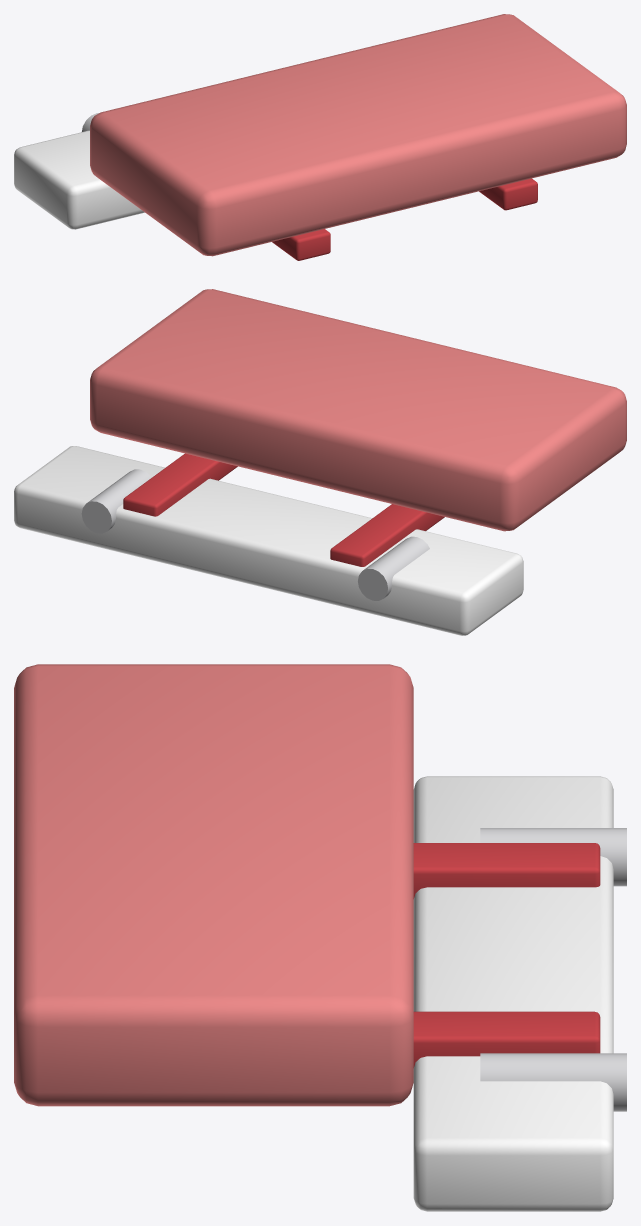
3 views of the same model, one above another, from view 1: azimuth 30°, elevation 25°; view 2: azimuth 150°, elevation 25°; view 3: azimuth 270°, elevation 25° (orthographic). The views are drawn at different scales.
Visible parts, largest first — view 1: xylophone_default; view 2: xylophone_default; view 3: xylophone_default.
Part boxes in pixels (left/top/right/bottom): xylophone_default: left=14, top=14, right=626, bottom=260; xylophone_default: left=14, top=289, right=626, bottom=635; xylophone_default: left=14, top=664, right=626, bottom=1211.
Bounding box in the file's own units: 0.66 × 0.165 × 0.46.
